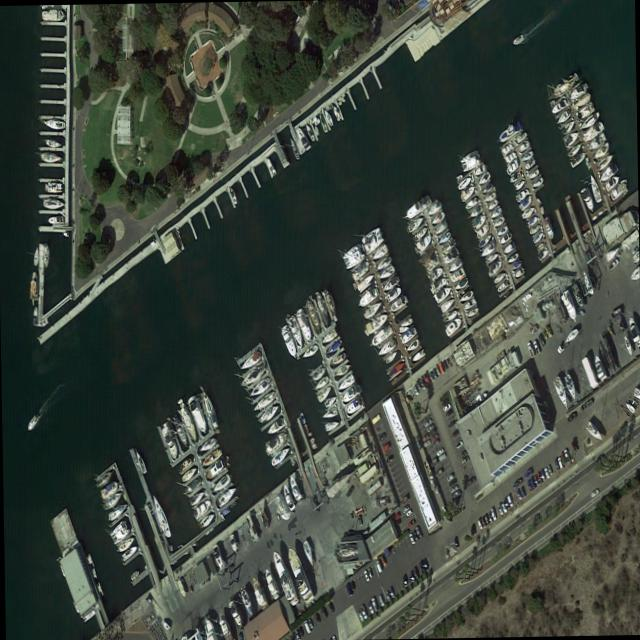large-vehicle: (554, 326, 581, 357)
ship: (285, 544, 315, 606), (270, 547, 299, 608), (151, 492, 172, 540), (178, 399, 199, 444), (549, 72, 577, 103), (188, 394, 208, 437), (360, 224, 386, 255), (201, 389, 220, 431), (240, 361, 267, 389), (161, 420, 179, 461), (405, 193, 431, 221), (280, 323, 299, 361), (552, 374, 570, 414), (497, 118, 523, 145), (314, 290, 332, 329), (264, 429, 289, 456), (250, 575, 268, 612), (561, 288, 579, 325), (306, 297, 323, 336), (342, 242, 364, 271), (296, 307, 313, 344), (365, 310, 389, 336), (253, 389, 277, 415), (249, 374, 272, 401), (459, 147, 482, 174), (370, 323, 393, 349), (288, 315, 305, 350), (173, 415, 190, 450), (263, 566, 280, 600), (323, 285, 339, 321), (240, 349, 263, 374), (582, 118, 604, 144), (110, 519, 130, 546), (258, 402, 280, 426), (239, 587, 255, 620), (227, 599, 244, 630), (206, 457, 227, 482), (269, 445, 291, 468), (351, 259, 372, 283), (358, 286, 379, 309), (363, 298, 384, 321), (107, 500, 128, 523), (103, 489, 124, 512), (216, 485, 237, 508), (201, 447, 222, 470), (587, 173, 602, 204), (377, 336, 397, 359), (211, 472, 231, 495), (341, 381, 361, 404), (580, 109, 600, 132), (193, 497, 212, 521), (244, 513, 259, 543), (598, 162, 618, 184), (281, 482, 295, 512), (593, 353, 607, 383), (564, 372, 578, 402), (444, 316, 463, 338), (389, 293, 408, 315), (345, 394, 364, 416), (96, 467, 114, 490), (586, 420, 604, 443), (288, 474, 302, 503), (581, 185, 595, 214), (356, 272, 375, 293), (100, 479, 119, 500), (267, 416, 286, 437), (609, 180, 628, 201), (573, 91, 592, 112), (571, 282, 585, 310), (388, 360, 407, 380), (199, 434, 217, 455), (297, 125, 311, 152), (134, 446, 147, 475), (302, 539, 315, 568), (569, 149, 588, 168), (371, 243, 389, 263), (374, 254, 392, 274), (588, 132, 606, 152), (596, 152, 614, 172), (185, 475, 202, 496), (212, 544, 225, 571), (382, 275, 400, 294), (416, 233, 433, 253), (400, 326, 417, 346), (316, 384, 333, 404), (321, 327, 338, 347), (325, 338, 342, 358), (338, 373, 355, 393), (288, 136, 301, 162), (550, 98, 568, 116), (435, 284, 452, 303), (431, 276, 448, 295), (378, 264, 395, 283), (460, 183, 477, 202), (407, 214, 424, 233), (118, 535, 135, 554), (198, 511, 215, 530), (302, 342, 319, 361), (181, 465, 198, 484), (569, 83, 586, 102), (563, 128, 580, 147), (423, 255, 439, 275), (593, 142, 609, 162), (543, 215, 555, 241), (426, 200, 443, 218), (604, 174, 621, 192), (386, 285, 402, 304), (480, 240, 496, 259), (314, 374, 330, 393), (311, 364, 327, 383), (556, 108, 572, 127), (442, 307, 459, 324), (121, 544, 138, 561), (330, 351, 347, 368), (457, 174, 473, 192), (41, 9, 65, 21), (189, 489, 205, 507), (605, 244, 621, 262), (41, 151, 63, 164), (472, 212, 487, 231), (579, 101, 594, 120), (564, 327, 579, 346), (511, 30, 526, 49), (43, 198, 64, 211), (449, 267, 465, 284), (428, 265, 444, 282), (413, 225, 429, 242), (335, 362, 351, 379), (567, 141, 583, 158), (440, 296, 455, 314), (561, 119, 576, 137), (444, 247, 458, 266), (26, 413, 39, 433), (454, 276, 469, 293), (448, 257, 463, 274), (459, 288, 474, 305), (478, 233, 493, 250), (476, 222, 491, 239), (489, 258, 504, 275), (623, 334, 634, 357), (406, 337, 420, 355), (30, 272, 39, 300), (44, 118, 65, 130), (265, 156, 277, 177), (229, 534, 240, 556), (322, 406, 338, 421), (431, 210, 445, 227), (434, 220, 448, 237), (519, 195, 533, 212), (521, 204, 535, 221), (515, 187, 529, 203), (305, 123, 316, 143), (493, 270, 507, 285), (178, 456, 192, 471), (318, 113, 328, 134), (438, 230, 451, 246), (412, 348, 425, 364), (470, 203, 483, 219), (465, 195, 478, 211), (323, 108, 333, 128), (324, 394, 338, 408), (400, 315, 413, 330), (385, 350, 398, 365), (500, 142, 513, 157), (478, 171, 491, 186), (499, 231, 512, 246), (503, 240, 516, 255), (325, 419, 340, 432), (531, 175, 544, 190), (45, 182, 62, 193), (464, 297, 477, 311), (504, 150, 517, 164), (528, 222, 541, 236), (483, 190, 496, 204), (486, 251, 499, 265), (507, 251, 520, 265), (496, 280, 509, 294), (490, 206, 502, 221), (43, 243, 50, 268), (94, 581, 104, 598), (85, 553, 95, 570), (532, 231, 544, 245), (493, 215, 505, 229), (481, 182, 493, 196), (496, 224, 508, 238), (528, 167, 540, 181), (519, 139, 530, 154), (332, 104, 341, 122), (228, 187, 237, 205), (467, 306, 479, 319), (514, 179, 526, 192), (474, 164, 486, 177), (509, 171, 521, 184), (538, 247, 549, 261), (514, 266, 525, 280), (524, 157, 535, 171), (522, 149, 533, 163), (625, 401, 636, 415), (487, 199, 498, 212), (48, 216, 63, 225), (31, 307, 38, 326), (527, 215, 538, 227), (129, 569, 140, 581), (584, 156, 592, 172), (46, 140, 60, 148), (90, 567, 98, 581), (398, 324, 409, 333), (299, 412, 306, 425), (34, 248, 39, 266), (302, 424, 309, 435), (314, 125, 320, 136), (309, 436, 316, 445), (539, 205, 545, 215), (536, 197, 542, 206), (311, 115, 317, 124), (311, 443, 317, 451), (314, 118, 320, 126)
small-vehicle: (526, 341, 535, 359), (608, 257, 619, 271), (563, 448, 571, 465), (161, 619, 171, 632), (533, 339, 541, 355), (359, 605, 368, 619), (370, 597, 378, 612), (570, 439, 578, 453), (419, 560, 427, 574), (537, 333, 545, 347), (303, 620, 311, 634), (377, 431, 387, 442), (444, 407, 454, 418), (567, 411, 577, 422), (423, 417, 433, 428), (385, 452, 394, 464), (400, 494, 409, 506), (375, 559, 382, 574), (490, 506, 497, 521), (402, 573, 409, 588), (378, 592, 385, 607), (415, 526, 423, 539), (506, 495, 514, 508), (408, 570, 416, 583), (381, 442, 390, 453), (461, 454, 470, 465), (466, 476, 475, 487), (363, 569, 370, 583), (557, 457, 564, 471), (413, 566, 420, 580), (321, 605, 328, 619), (307, 616, 314, 630), (427, 369, 434, 383), (412, 382, 419, 396), (438, 361, 445, 375), (411, 529, 419, 541), (366, 567, 374, 579), (518, 486, 526, 498), (453, 536, 460, 549), (409, 532, 416, 545), (486, 510, 493, 523), (532, 474, 539, 487), (497, 503, 504, 516), (328, 600, 335, 613), (431, 367, 438, 380), (434, 364, 441, 377), (422, 438, 431, 448), (368, 600, 374, 615), (448, 477, 457, 487), (435, 447, 444, 457), (442, 402, 451, 412), (421, 432, 429, 443), (431, 431, 439, 442), (476, 519, 483, 531), (380, 556, 387, 568), (479, 516, 486, 528), (543, 467, 550, 479), (388, 586, 395, 598), (385, 589, 391, 603), (442, 359, 448, 373), (450, 484, 459, 493), (451, 490, 460, 499), (483, 512, 489, 525), (501, 501, 507, 514), (415, 379, 421, 392), (405, 508, 413, 517), (540, 469, 546, 481), (591, 488, 599, 497), (547, 464, 553, 476), (536, 472, 542, 484), (516, 489, 522, 501), (503, 498, 509, 510), (315, 612, 321, 624), (446, 473, 454, 482), (426, 423, 434, 432), (451, 429, 459, 438), (402, 504, 409, 514), (408, 518, 415, 528), (429, 427, 436, 437), (456, 439, 463, 449), (460, 450, 467, 459), (449, 419, 456, 428)
